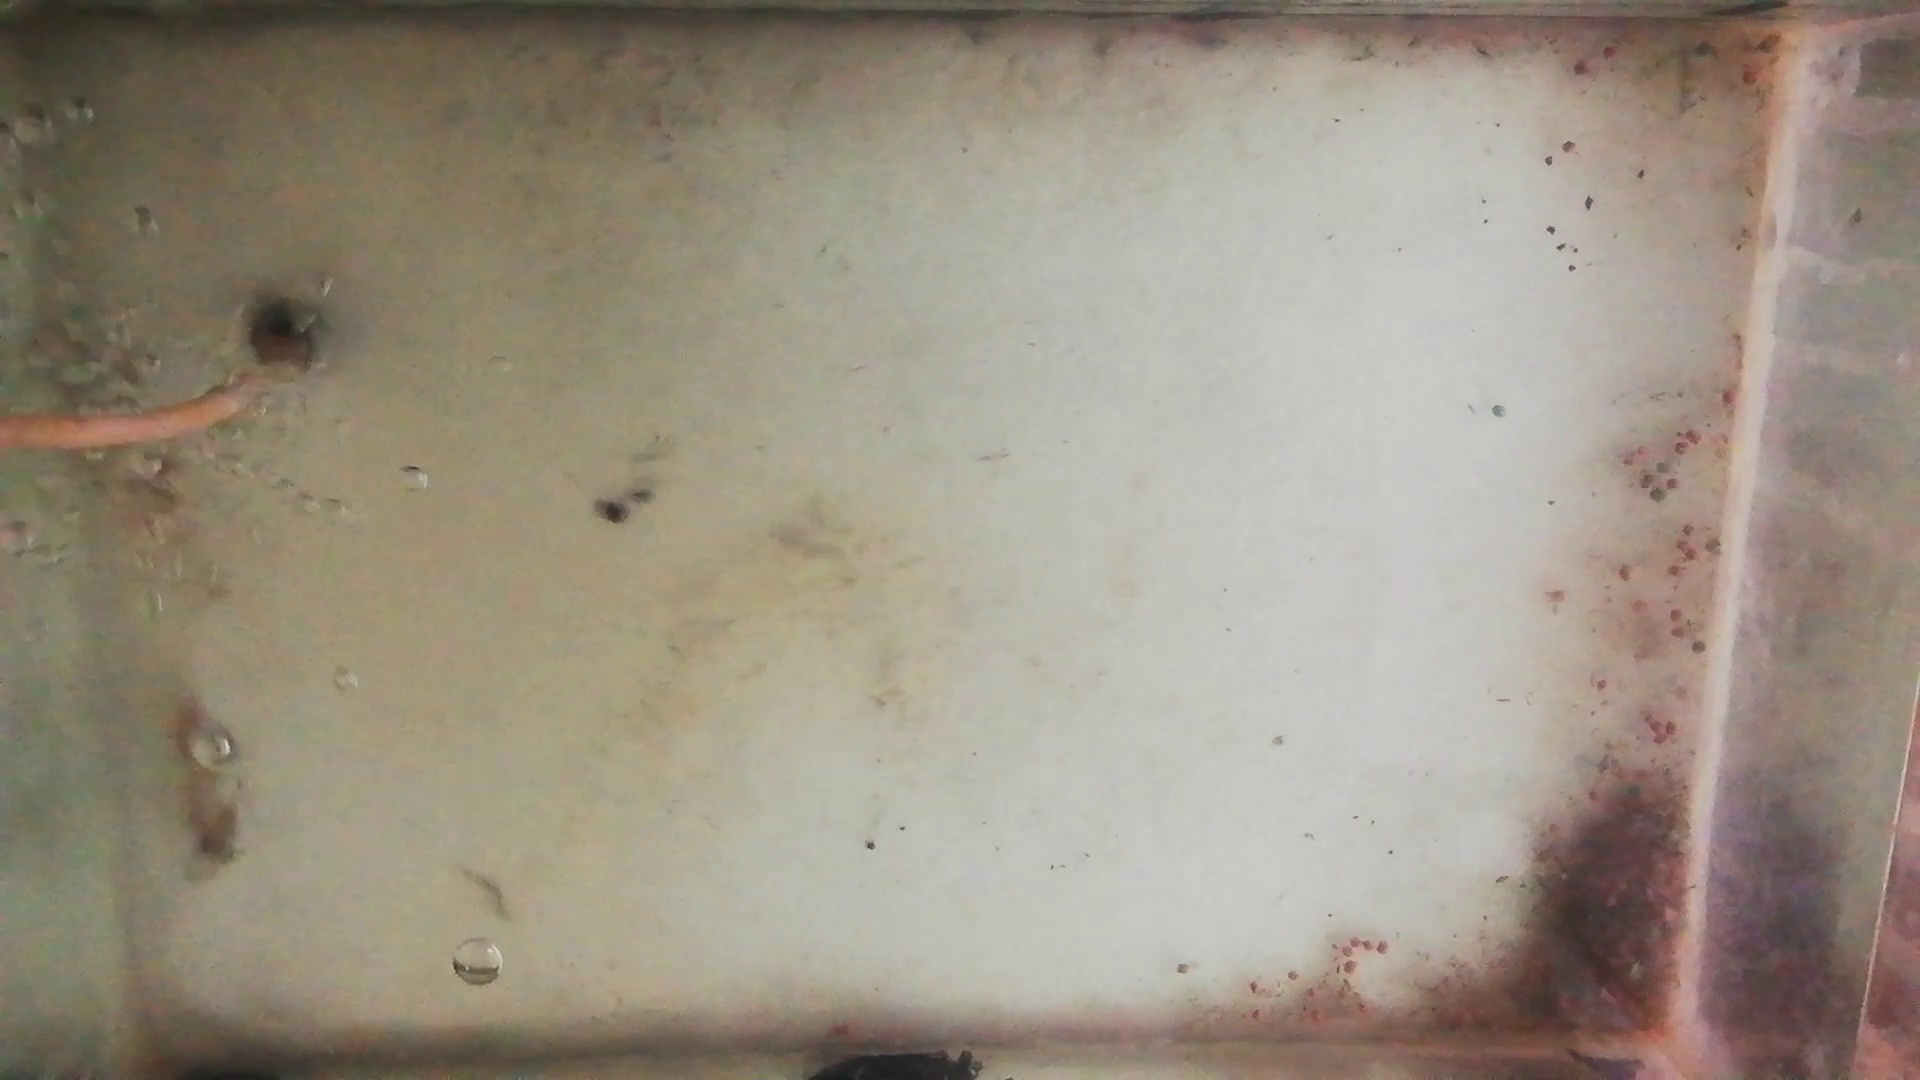fish: (174, 683, 240, 868)
